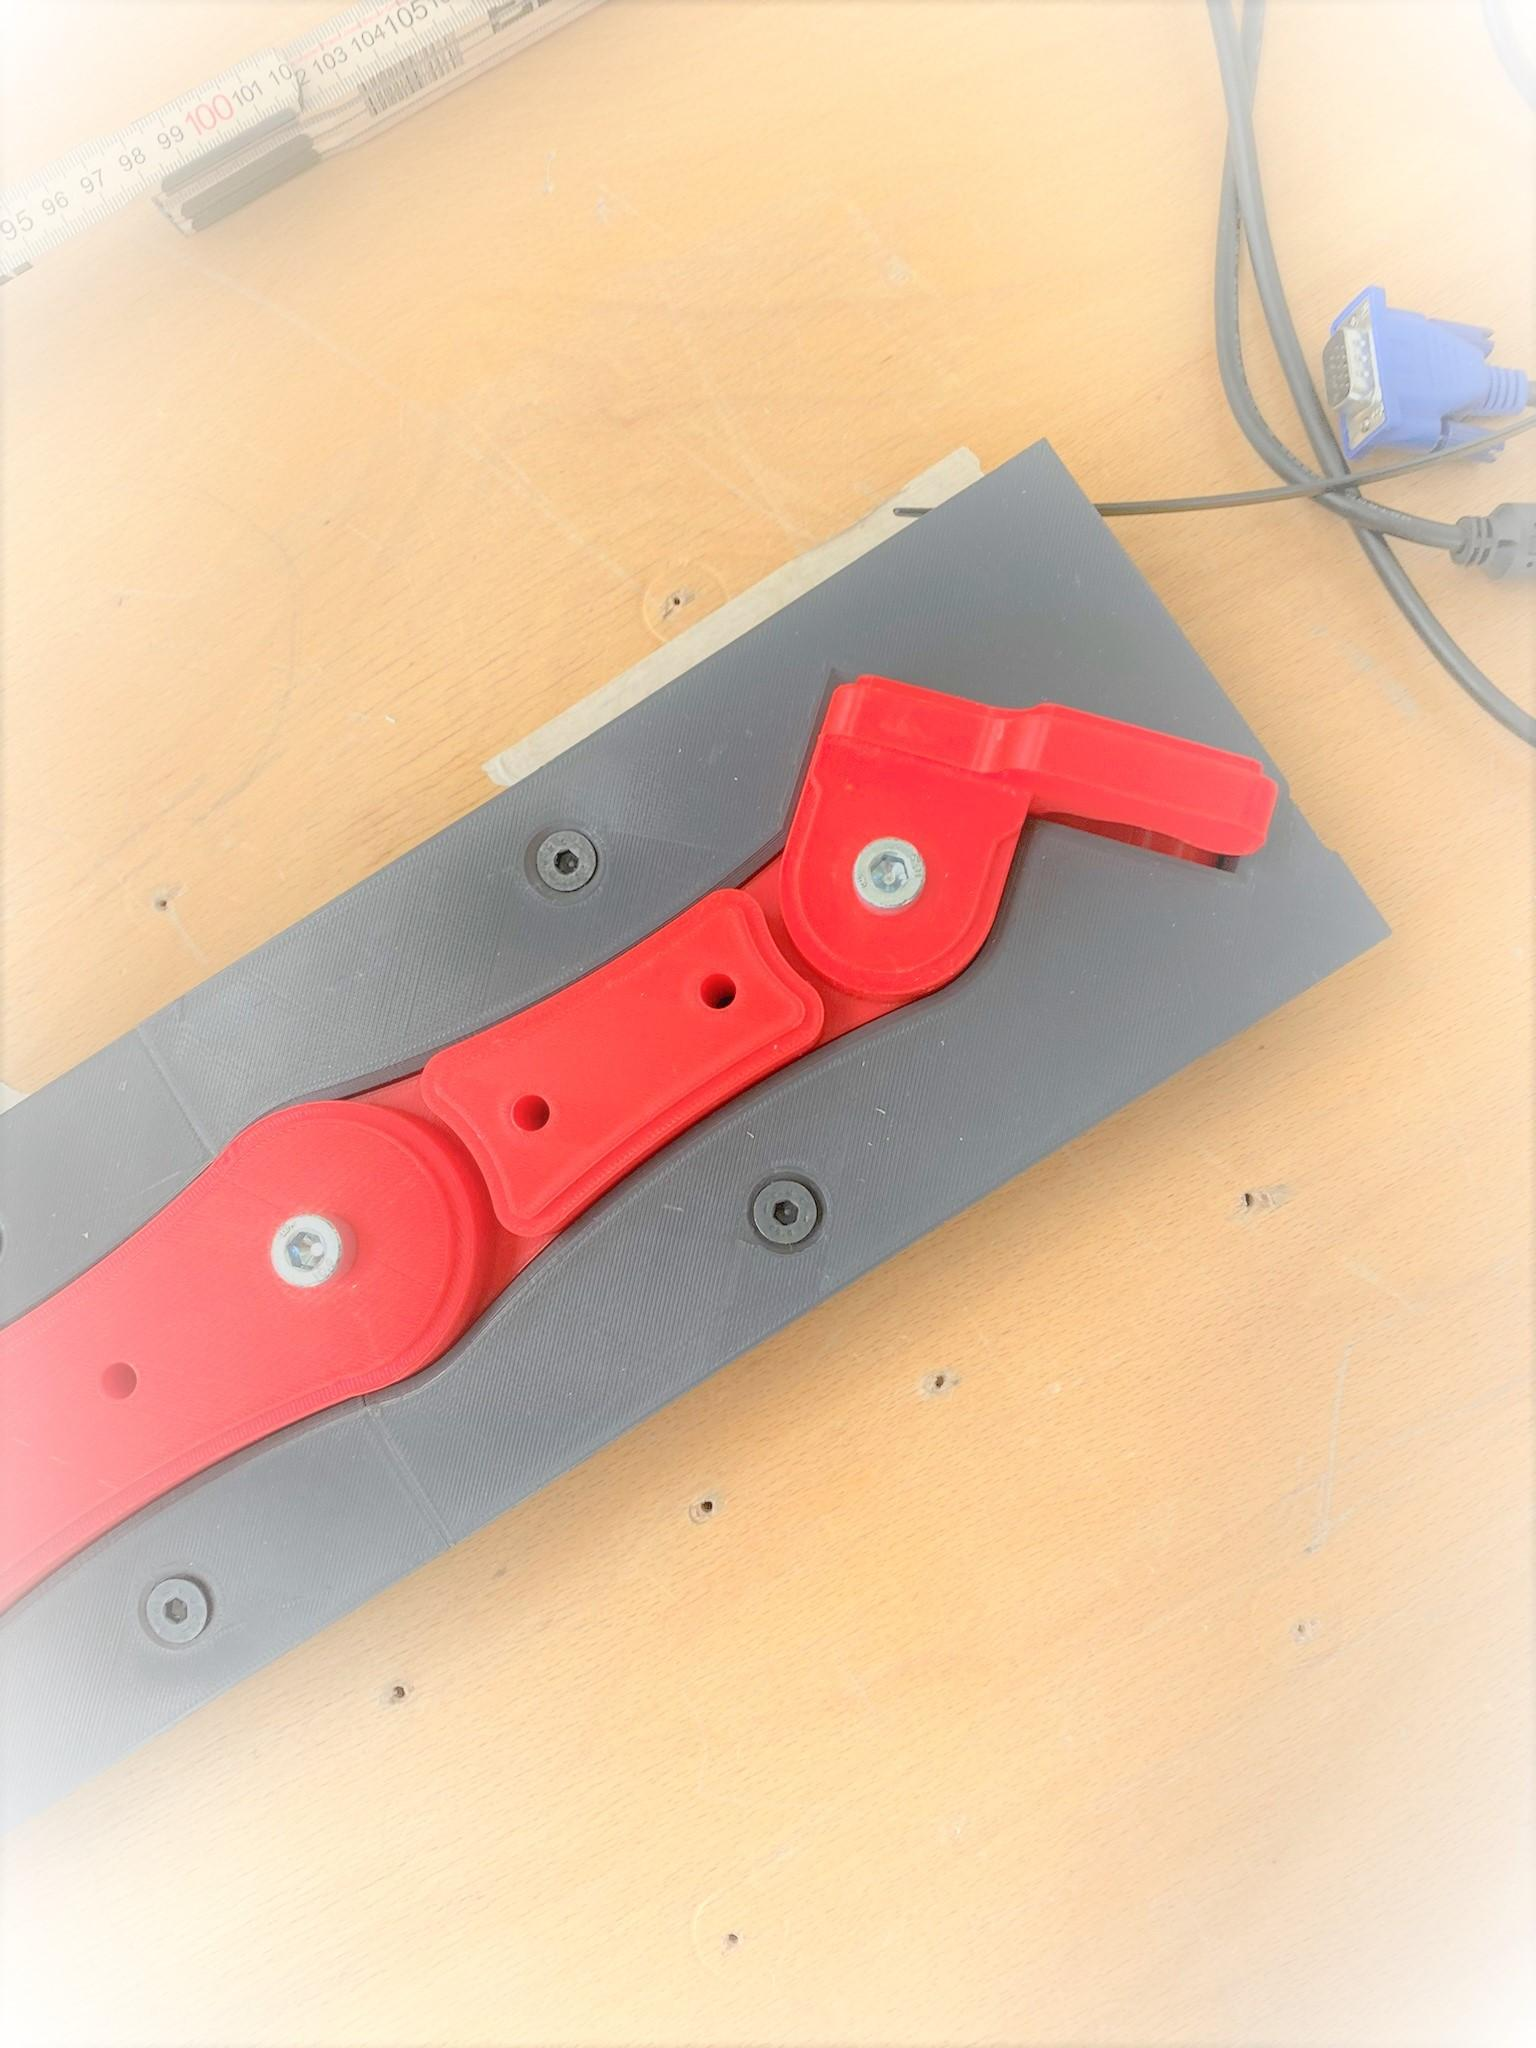H: (273, 1209, 344, 1288), (854, 835, 926, 908), (753, 1177, 818, 1247), (144, 1576, 210, 1642), (537, 827, 595, 892)
